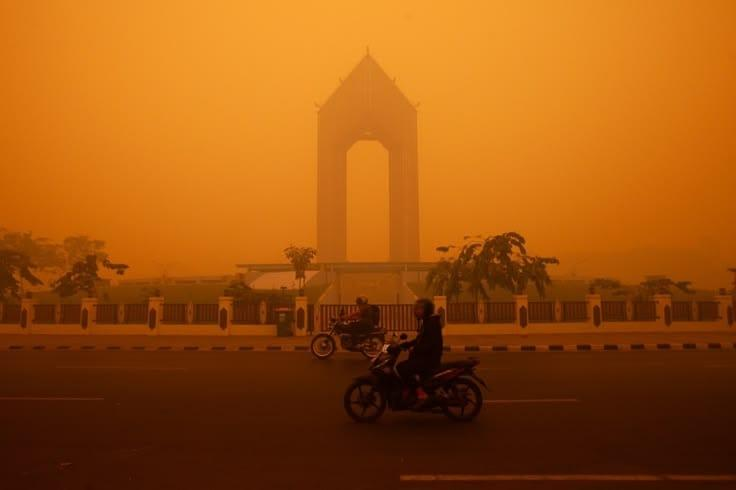Deteksi-Objek-Citra-Berasap: (0, 0, 736, 490)
Gedung: (314, 48, 421, 265)
Kendaraan: (343, 332, 489, 424), (309, 315, 391, 361)
Manusia: (392, 298, 444, 406), (334, 296, 379, 352)
Vegetasi: (421, 230, 562, 304), (0, 229, 130, 303), (630, 273, 699, 300), (282, 243, 318, 293)
